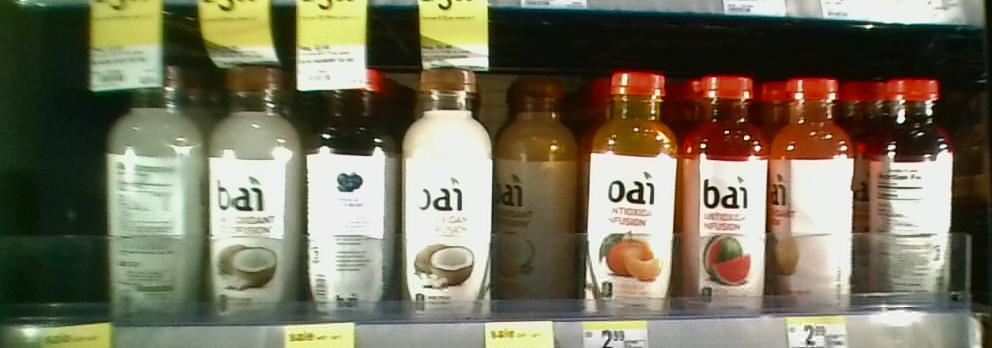bottle: (101, 58, 207, 334), (395, 50, 501, 325), (208, 57, 312, 330), (860, 66, 962, 313), (310, 61, 399, 334), (770, 61, 862, 315), (686, 67, 773, 319), (592, 69, 683, 308), (500, 62, 581, 307)
